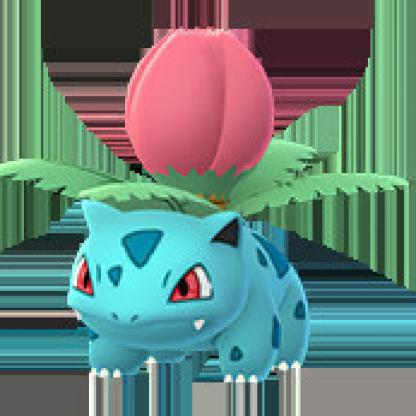Ivysaur: (19, 19, 377, 386)
